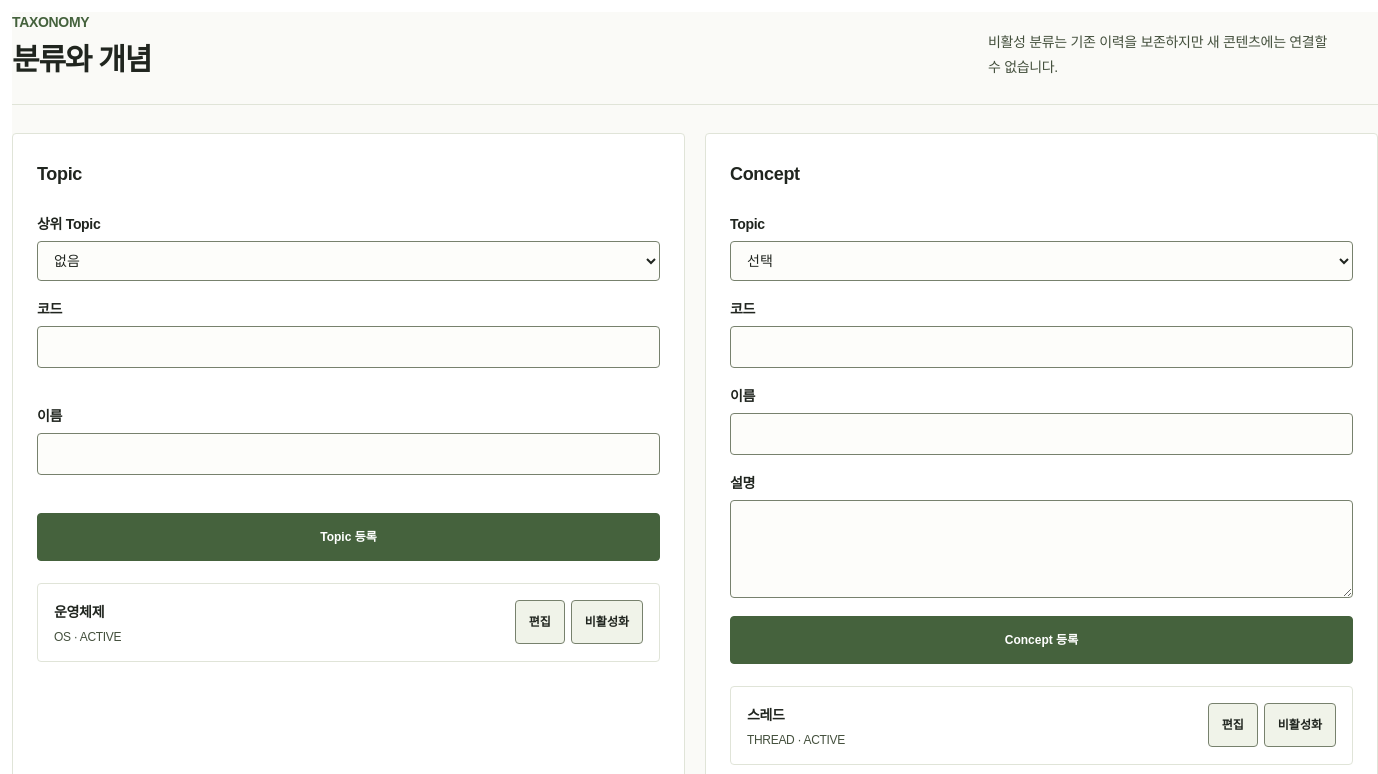
it: 관리자 Topic과 Concept 화면 › Topic 등록 성공 후 공통 성공 피드백을 표시하고 목록을 다시 조회한다
Step 1. Type "NETWORK" into the field labelled "코드" below "상위 Topic" → (348, 347), box [37, 326, 660, 368]
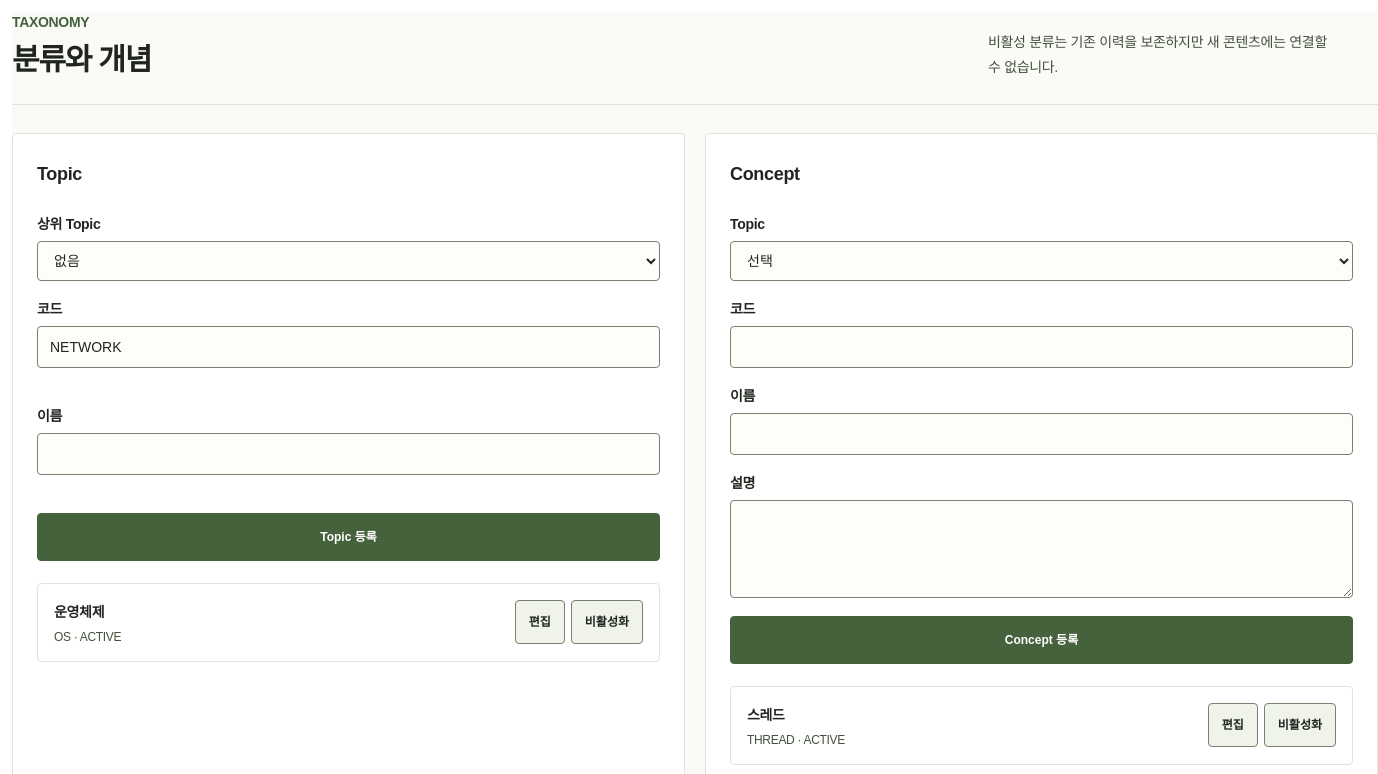
Step 2. Type "네트워크" into the field labelled "이름" below "상위 Topic" → (348, 454), box [37, 433, 660, 475]
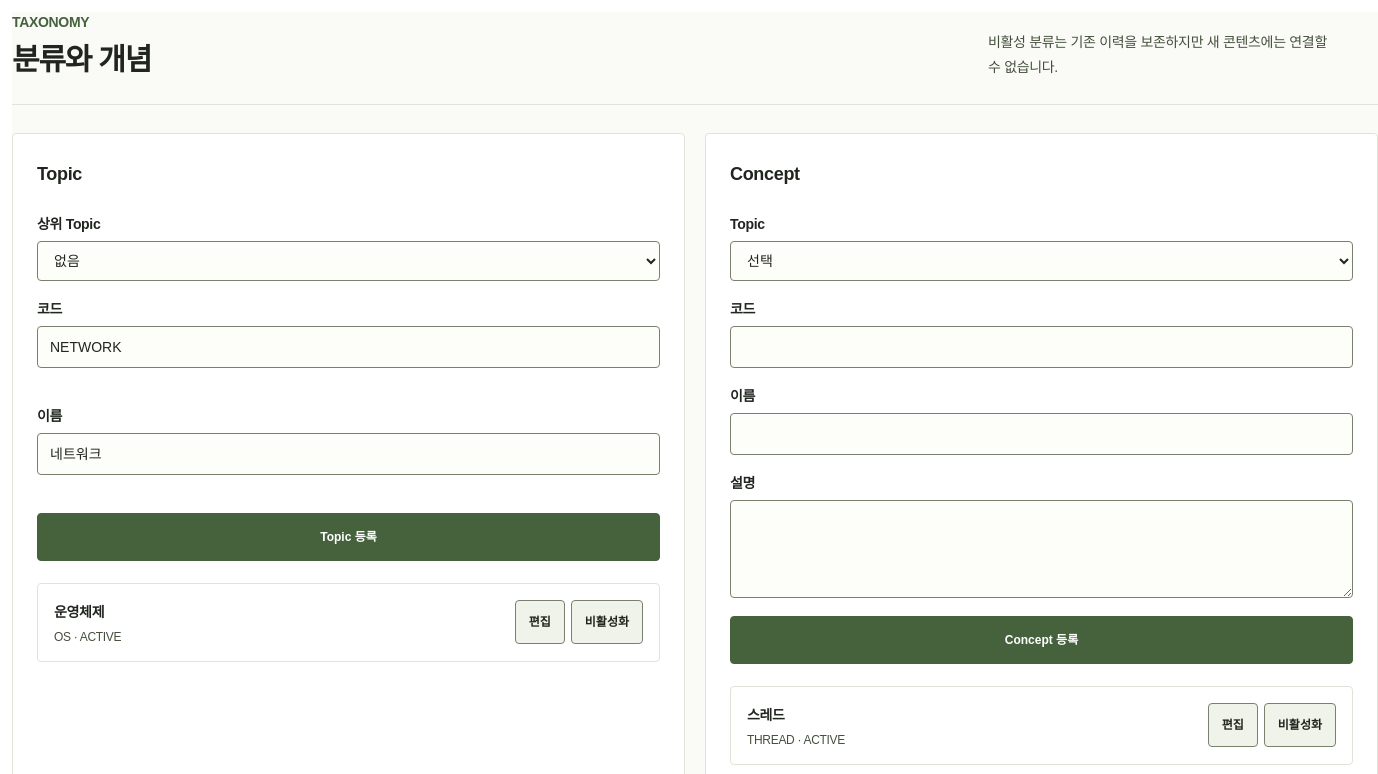
Step 3. Submit the form "상위 Topic 코드 이름 Topic 등록", box [37, 214, 660, 561]
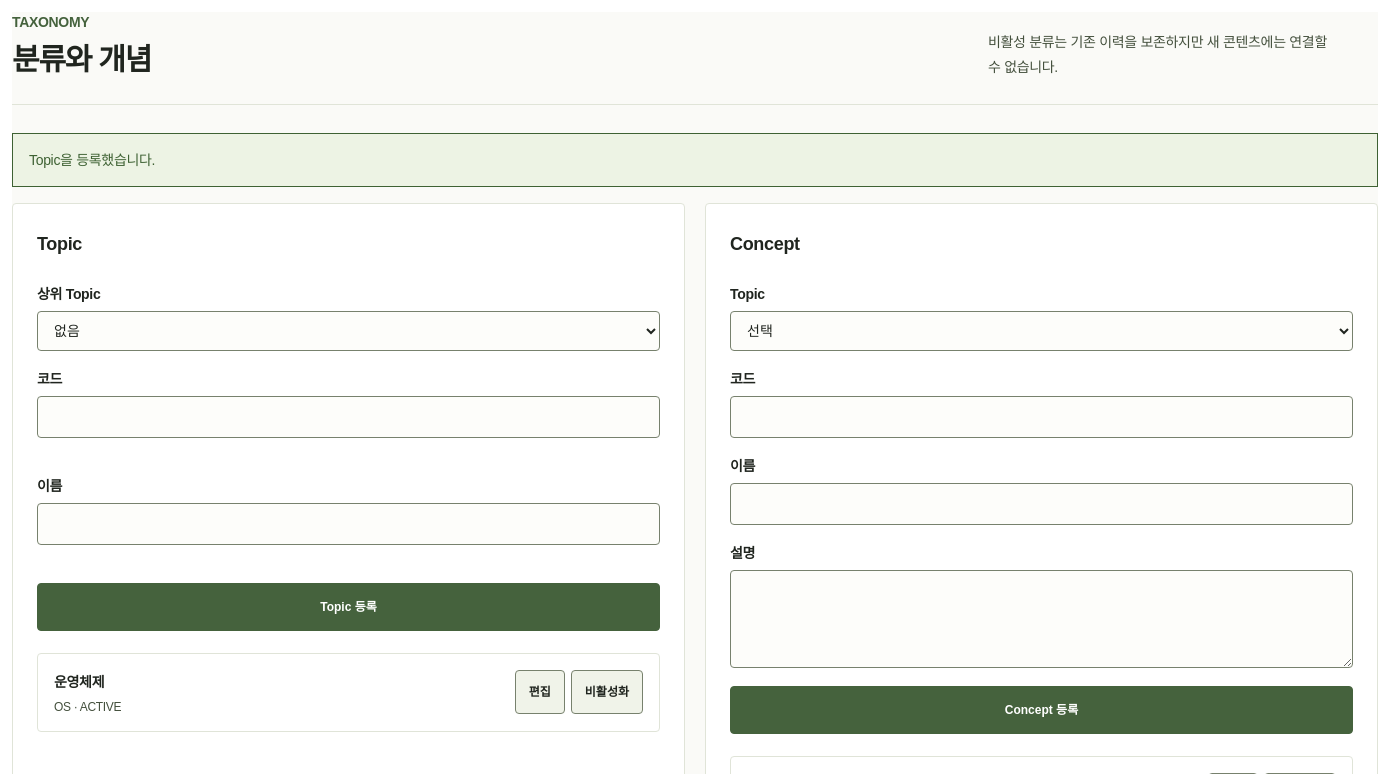
Expected: the text "Topic을 등록했습니다." is shown, [12, 133, 1377, 187]
